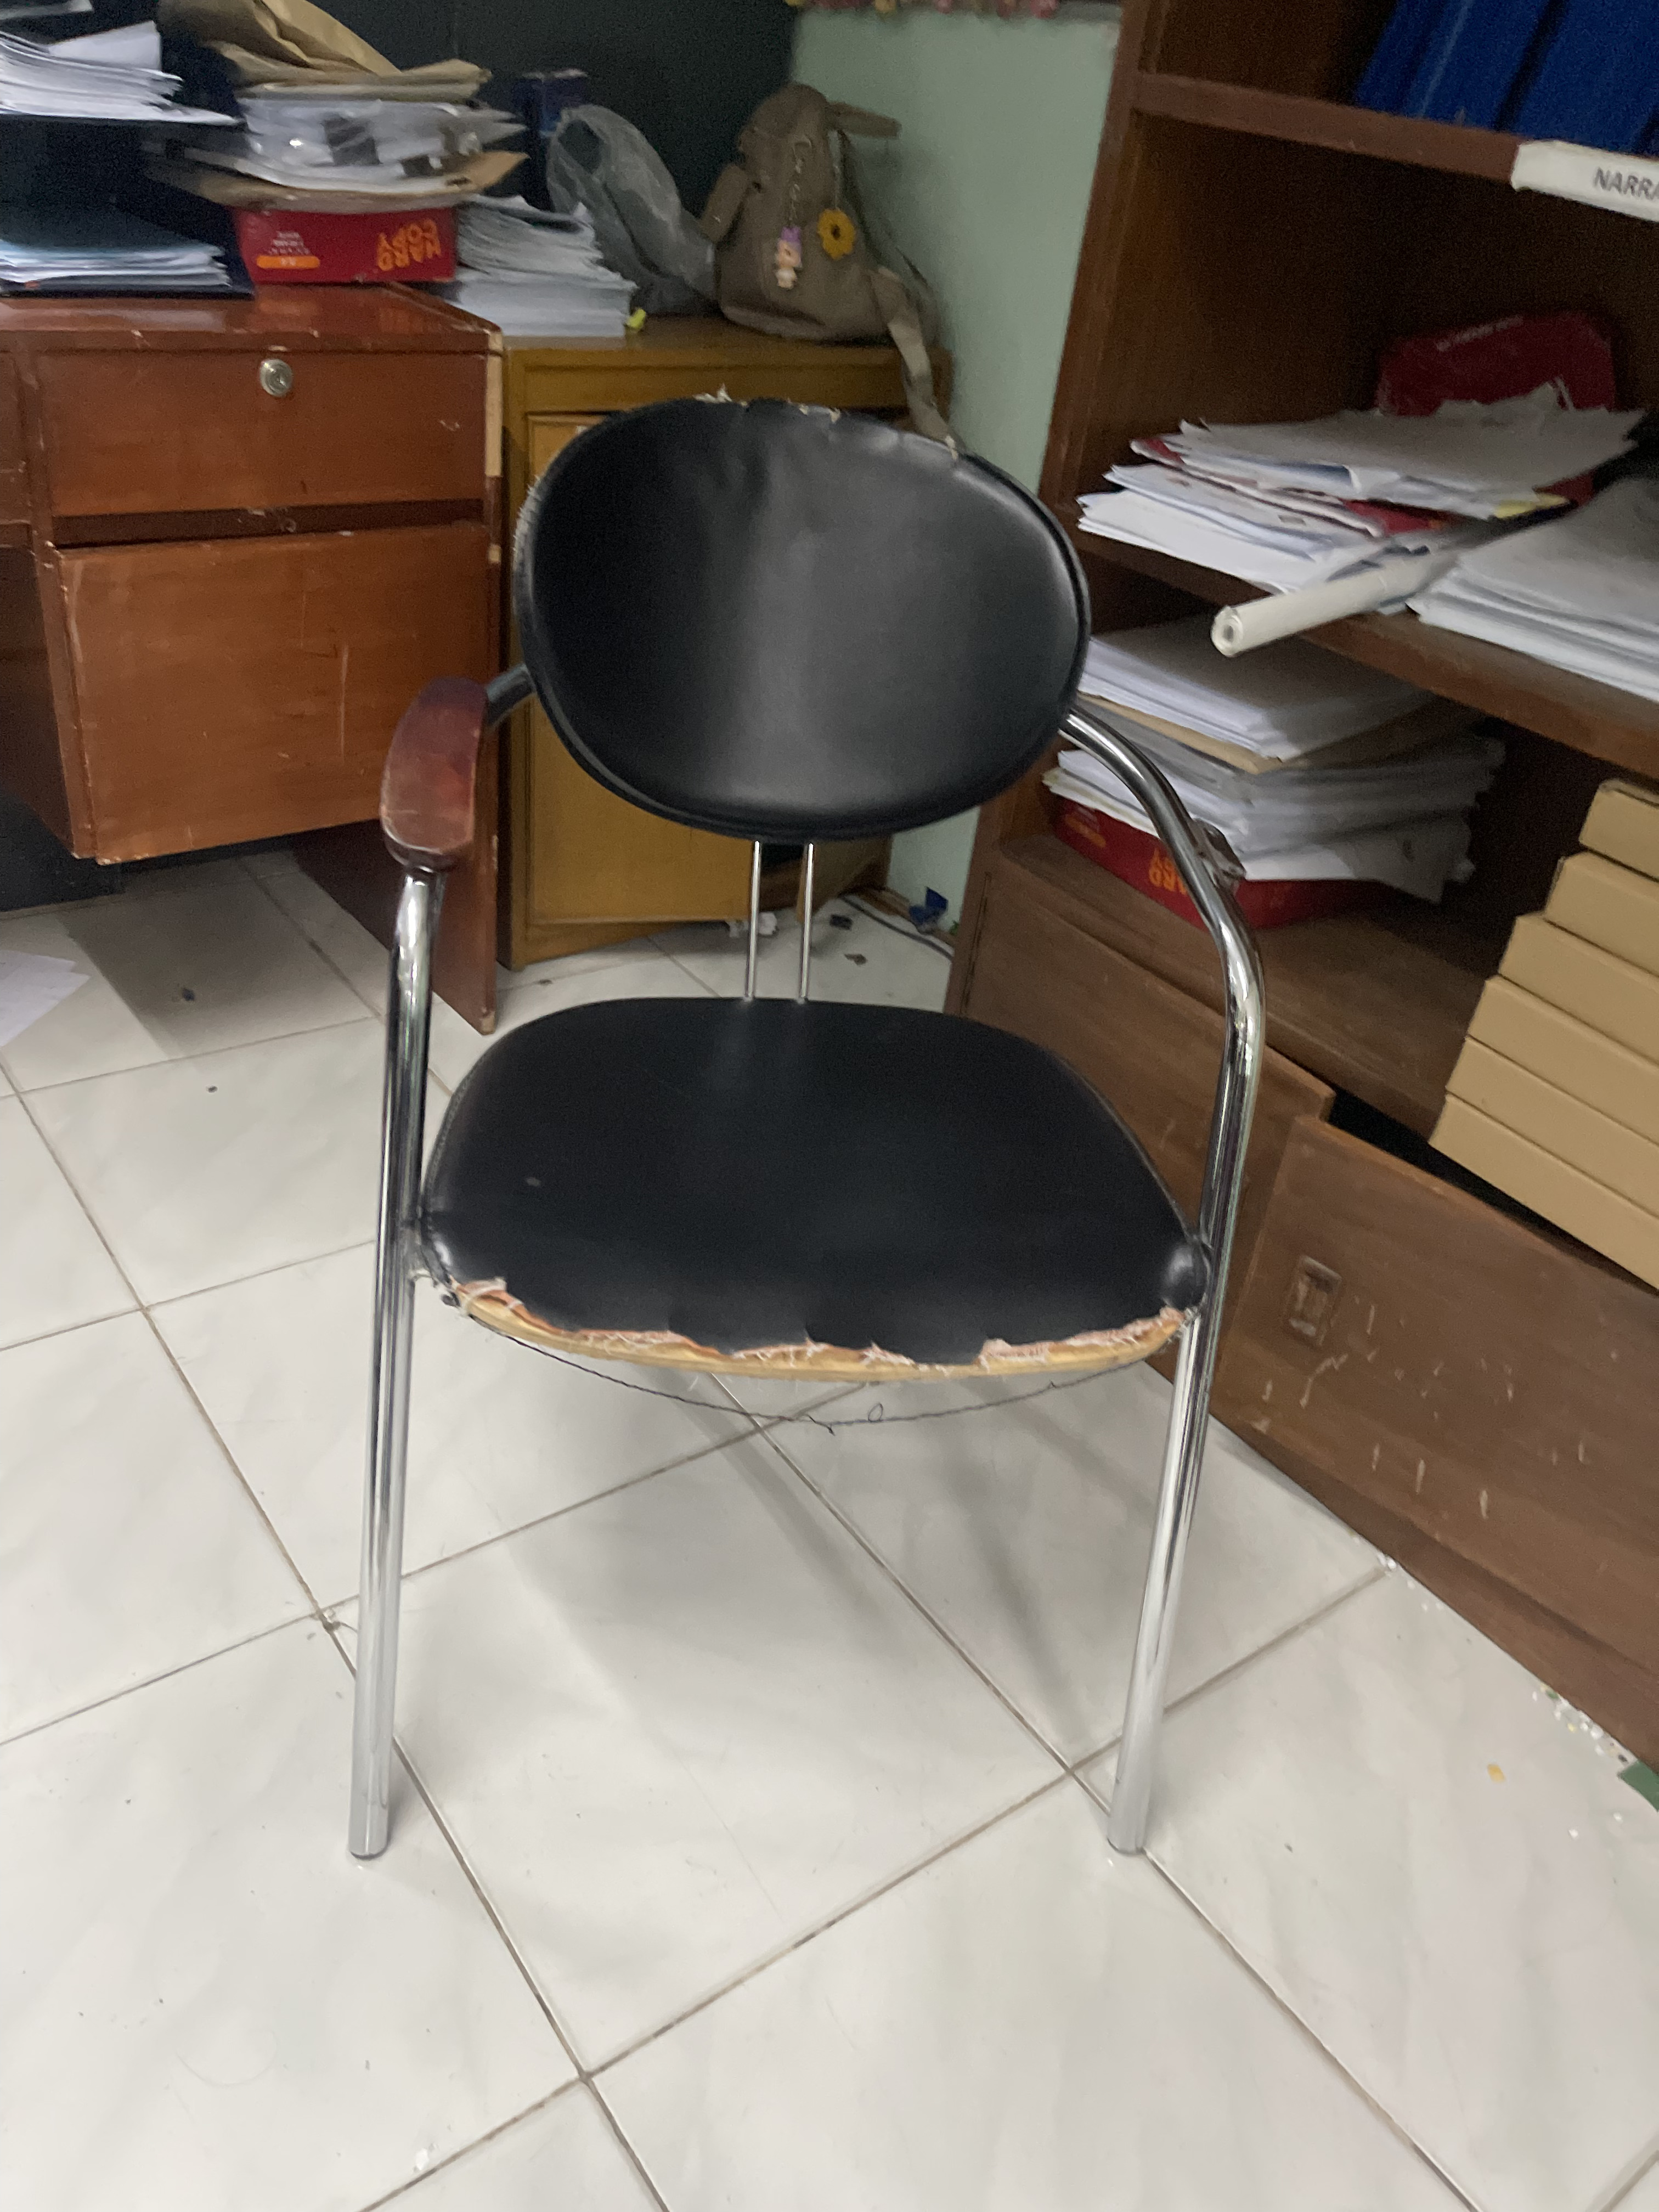chair1: (347, 394, 1276, 1883)
